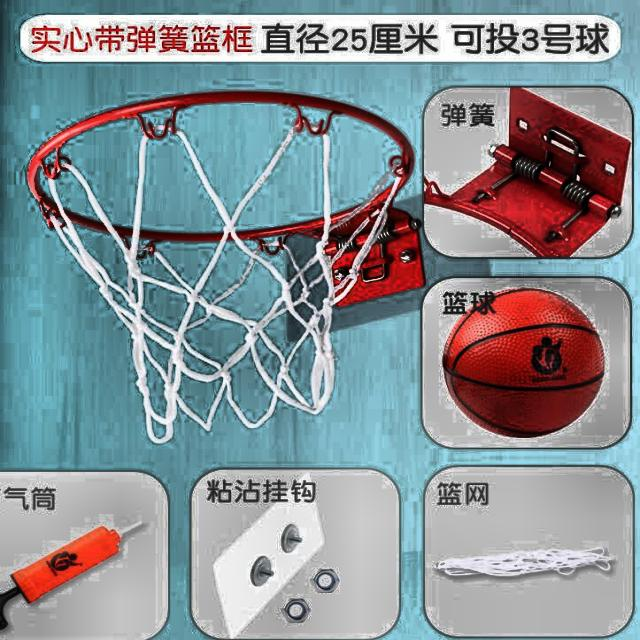rim: (26, 90, 413, 437)
